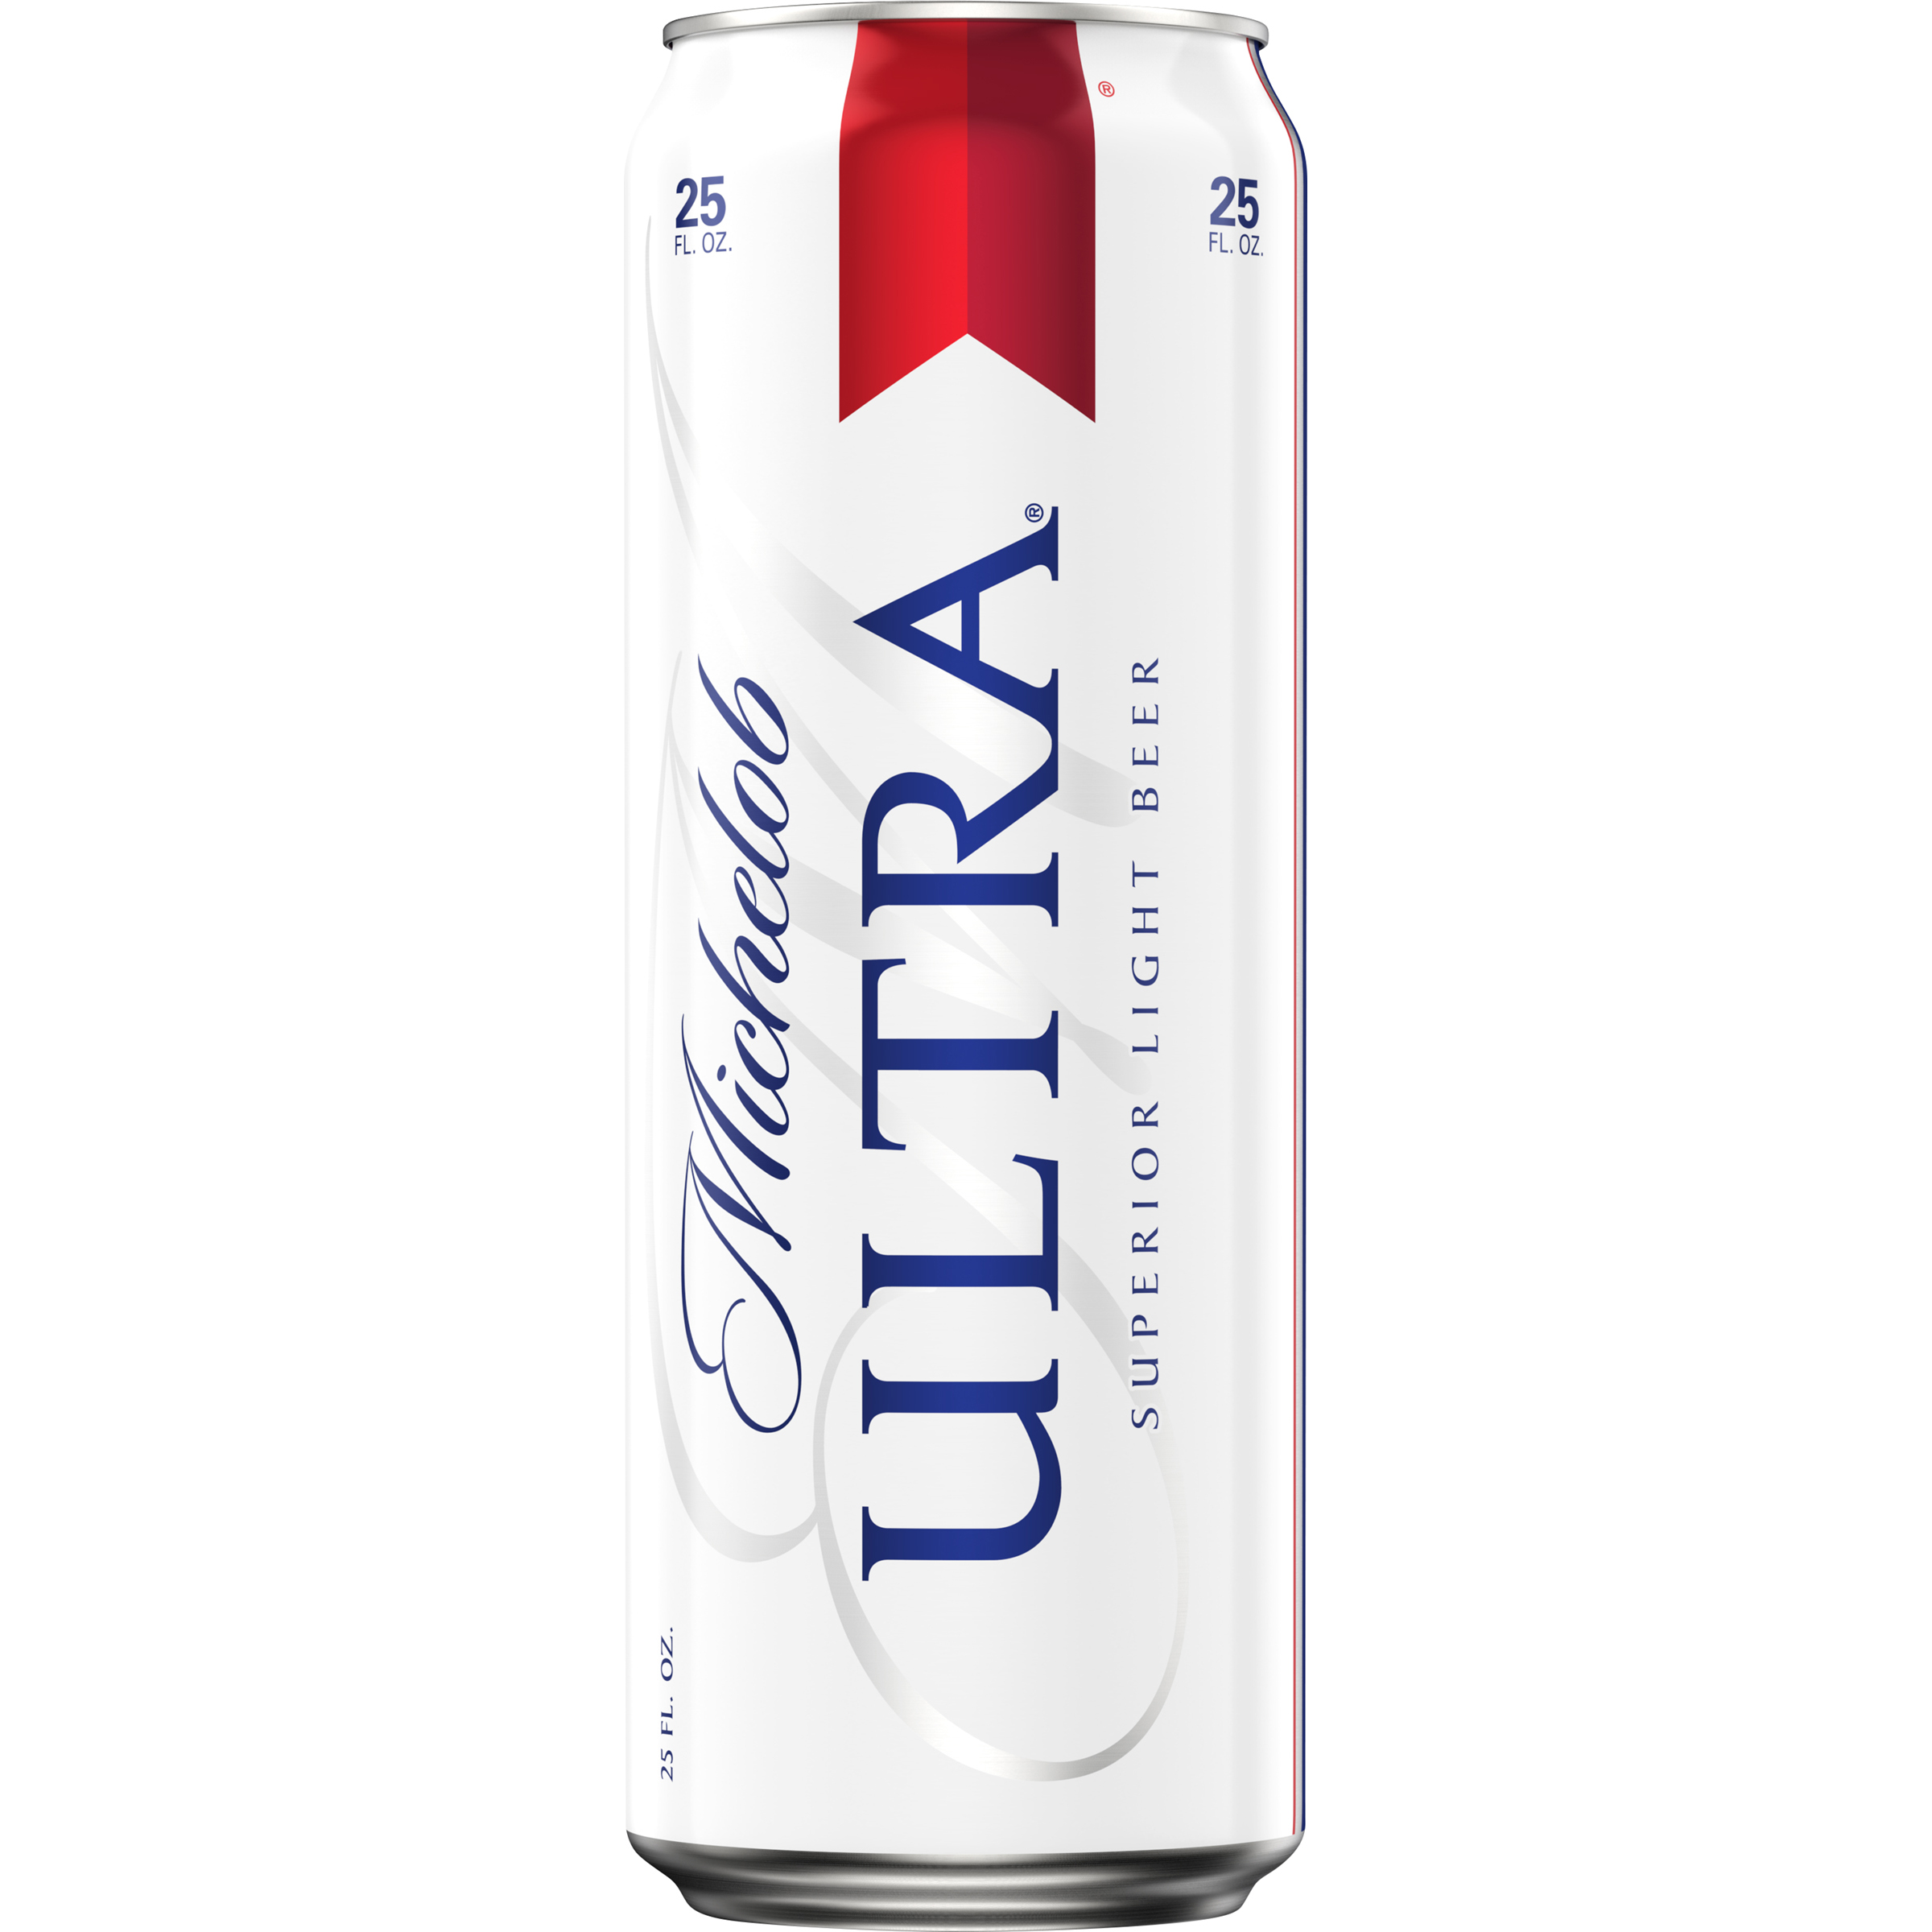beer can: (593, 21, 1332, 1918)
